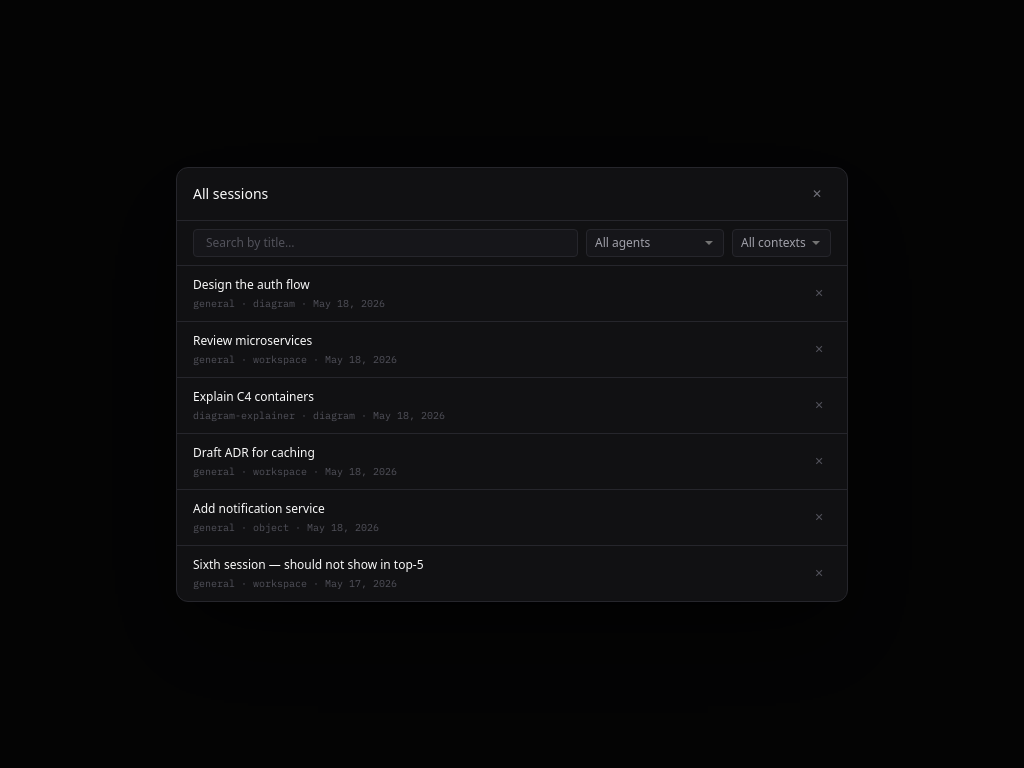
it: AllSessionsModal › clicking cancel in delete confirm leaves the list unchanged
Expected: the list item with test id "session-list-row-sess-1" is shown, x1=177 y1=266 x2=847 y2=322
Click the button with test id "session-delete-btn-sess-1". click: (819, 293)
box: x1=807 y1=281 x2=831 y2=305
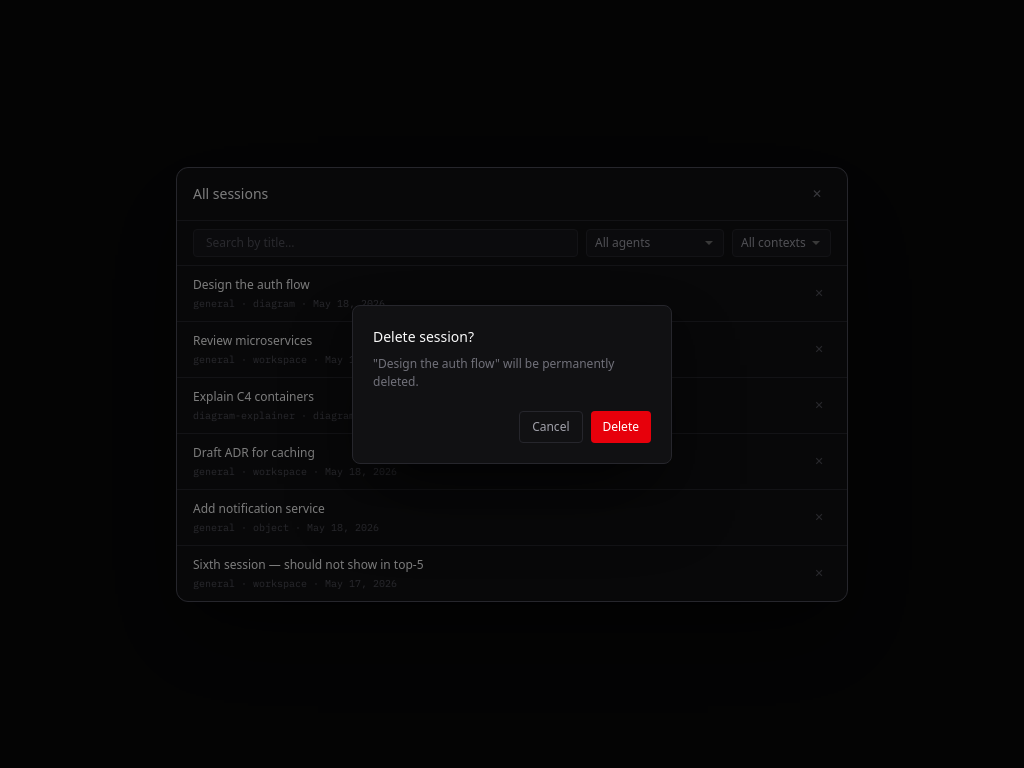
Expected: the dialog with test id "delete-confirm-dialog" is shown, x1=177 y1=168 x2=847 y2=600
Click the button with test id "delete-cancel-btn". click: (551, 426)
box: x1=519 y1=410 x2=582 y2=442
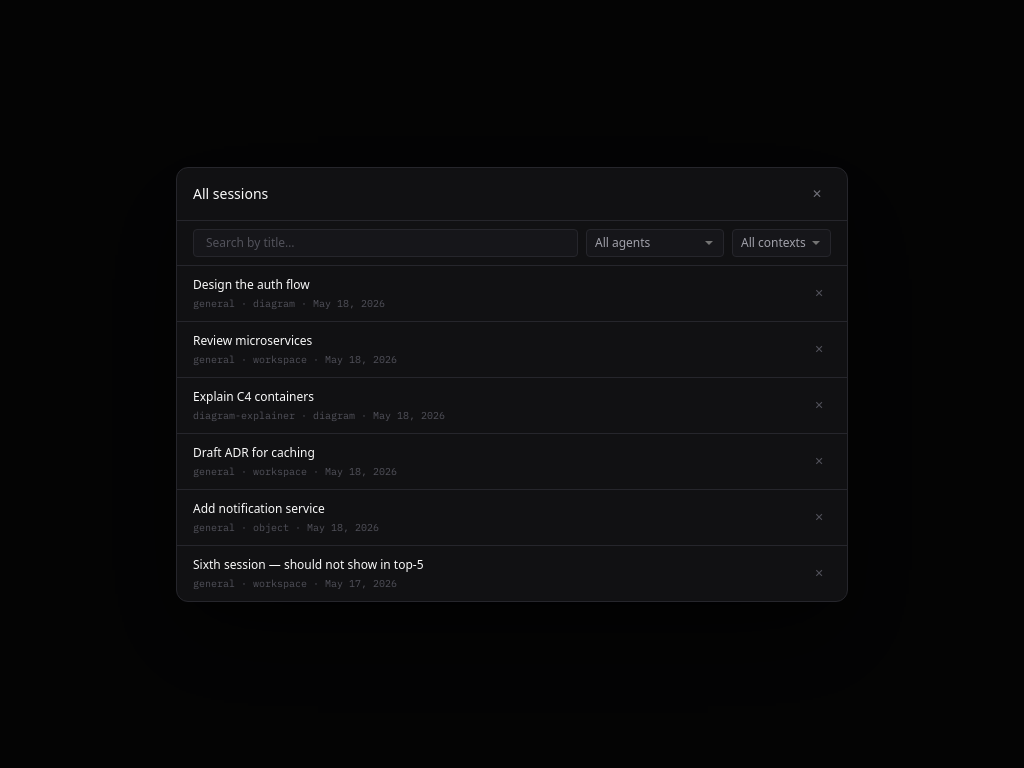
Expected: the dialog with test id "delete-confirm-dialog" is gone
